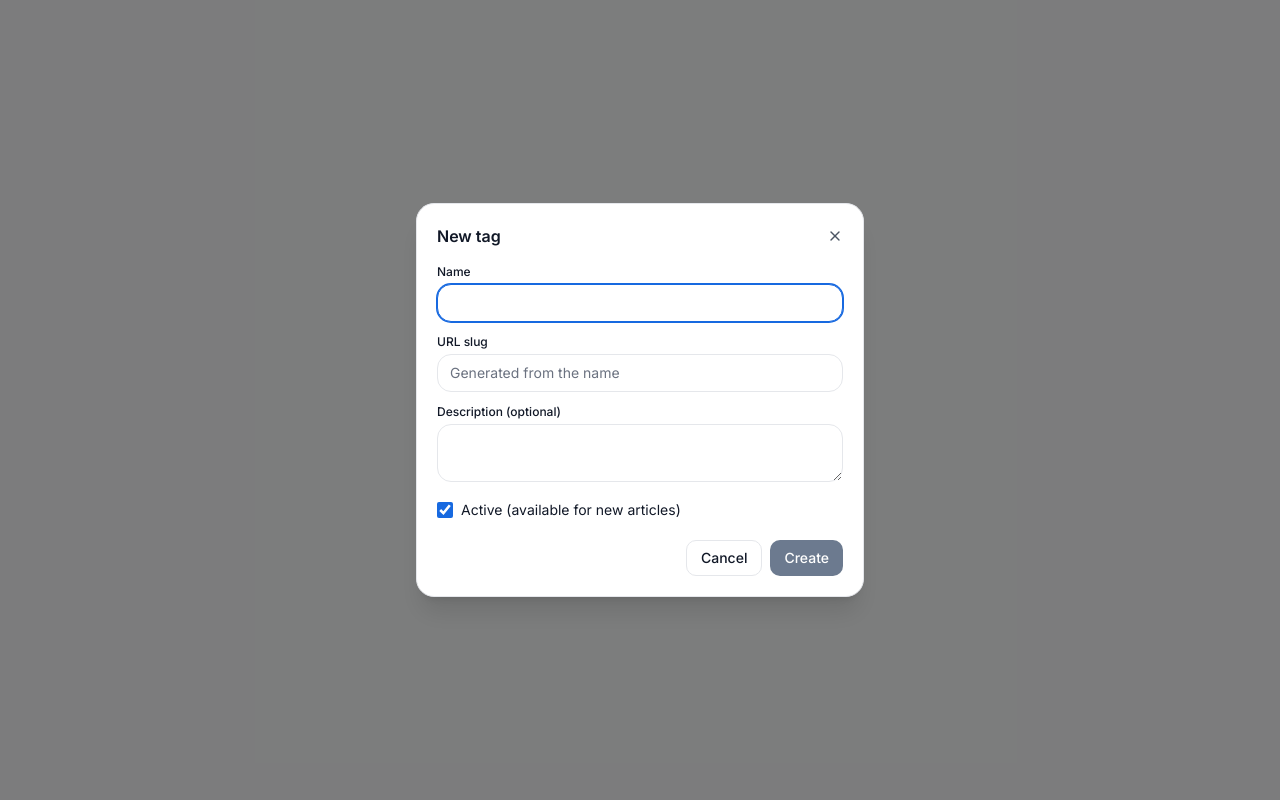
Test case: TaxonomyFormDialog › lists every validation message from the server
This screenshot has width=1280, height=800.
Type "Ab" into the field labelled "Name". click: [640, 303]
box: [437, 284, 843, 322]
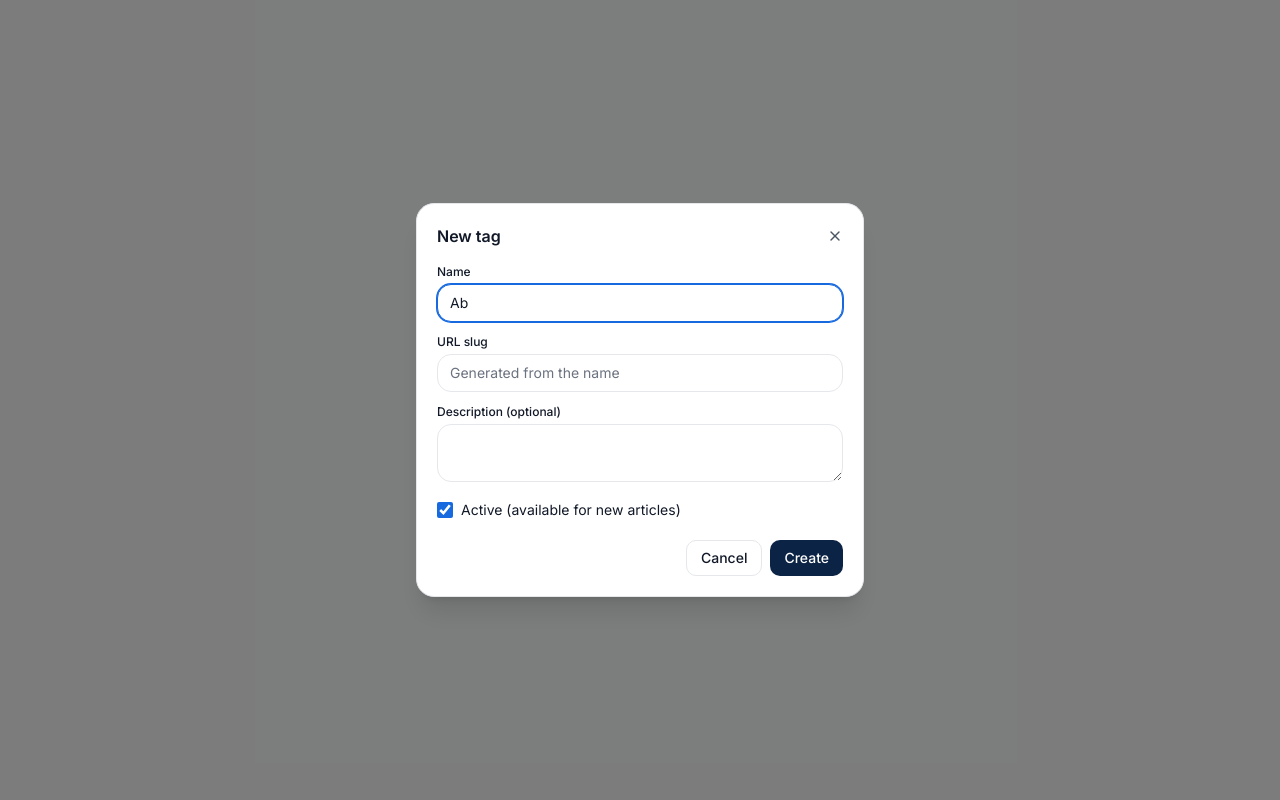
Click the button "Create". click: [807, 558]
box: [770, 540, 843, 576]
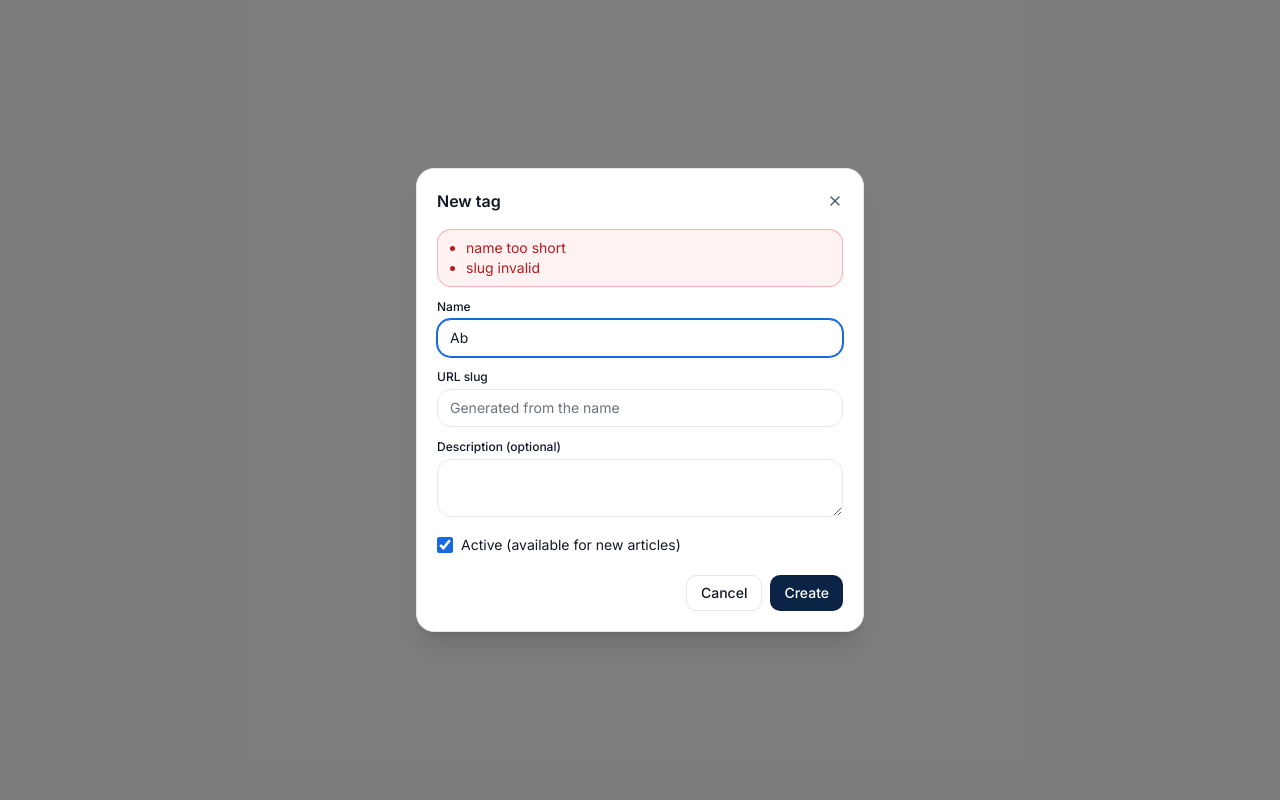
Expected: the number of list items is 2, [466, 239, 566, 256]; [466, 259, 540, 276]
